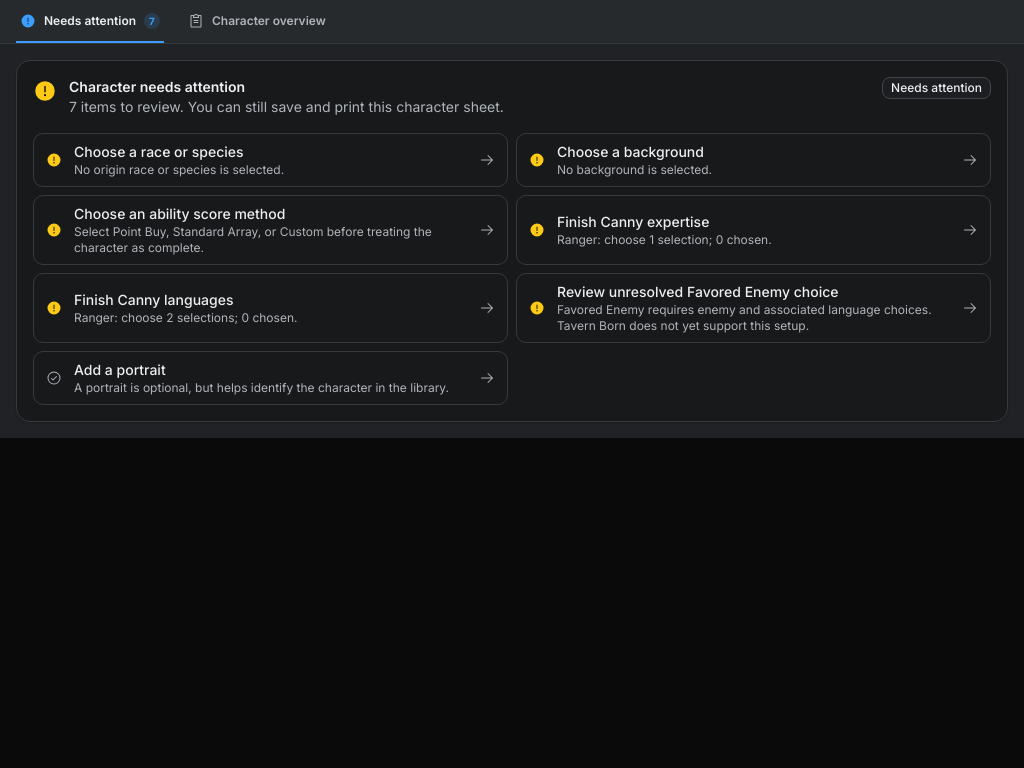
Test: Review routes the real Canny requirement to shared picker and strictly saves the selected proficient skill
Click the button "Finish Canny expertise": click(754, 230) x1=516 y1=195 x2=991 y2=265
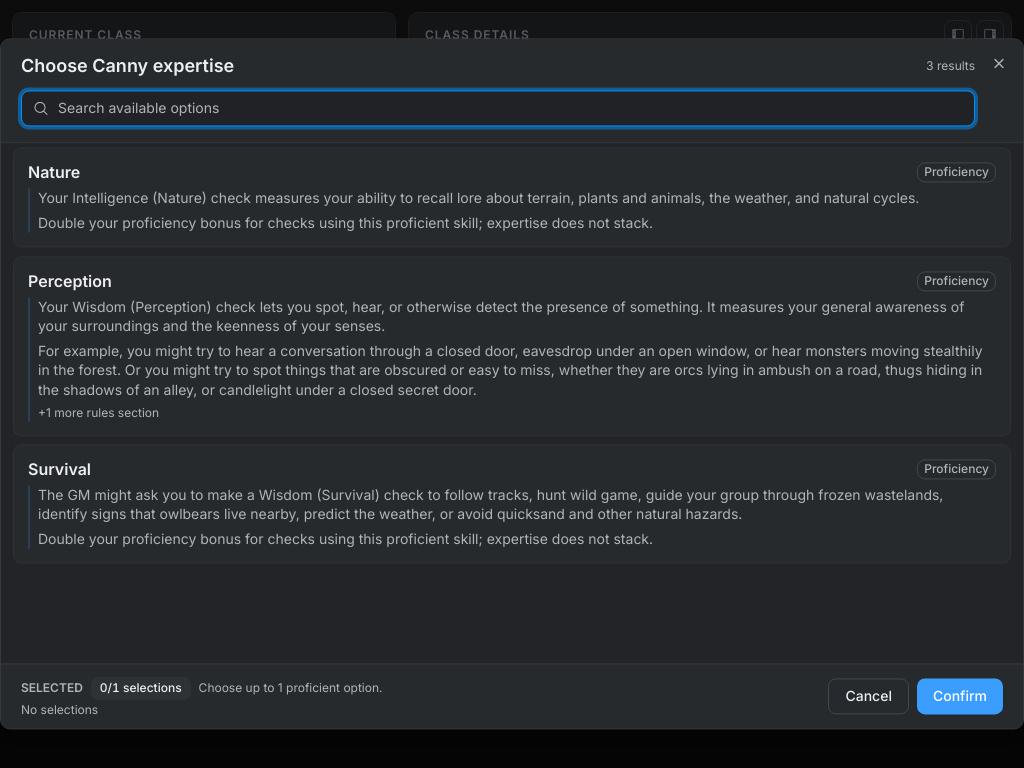
Now the dialog is shown
In the field with placeholder "Search available options": (498, 108) x1=21 y1=90 x2=975 y2=126, type "Survival"
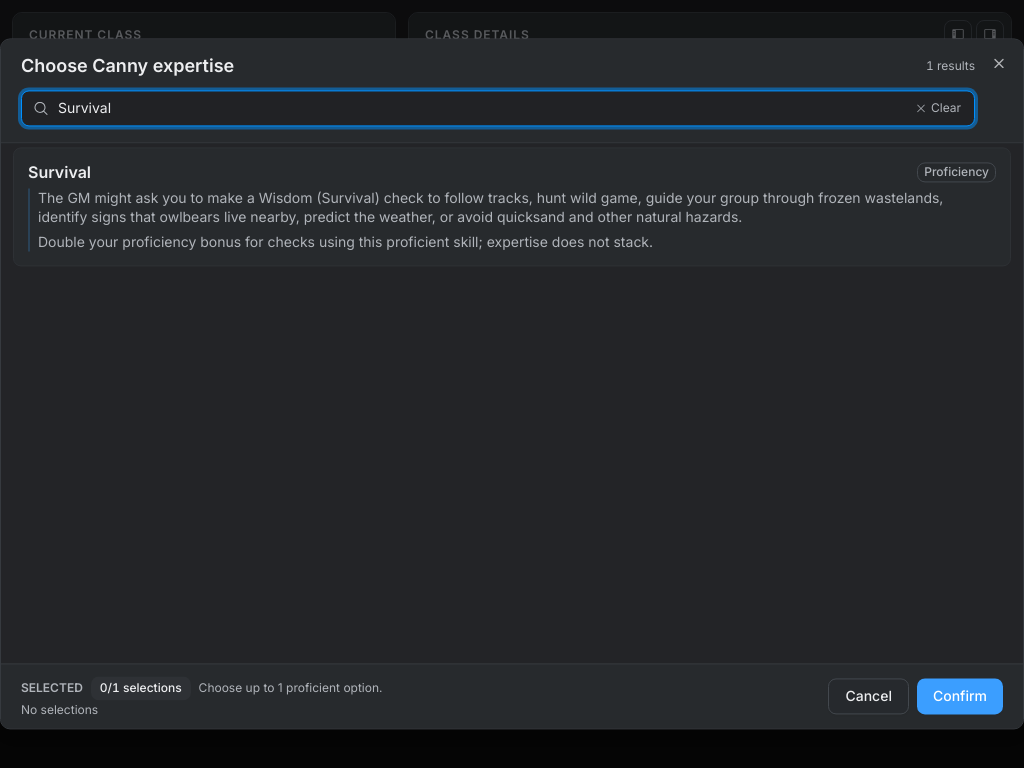
Click the button that starts with "Survival": click(512, 207) x1=13 y1=147 x2=1011 y2=267
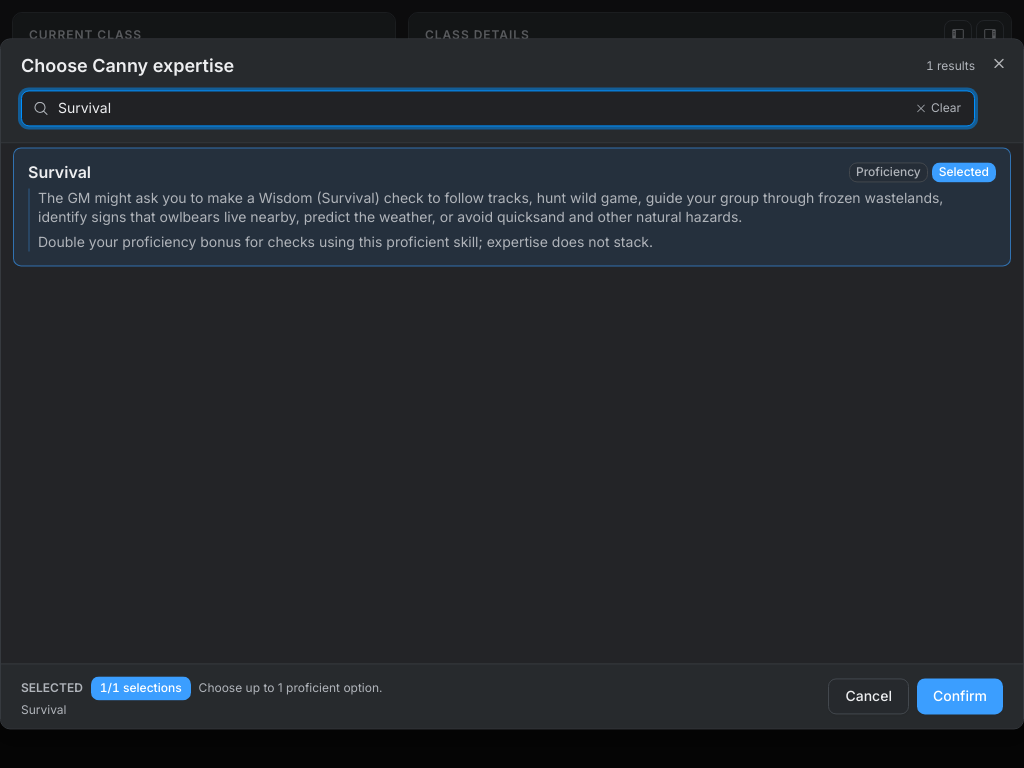
Now the button "Confirm" is enabled
Click the button "Confirm": click(960, 697) x1=917 y1=679 x2=1003 y2=715
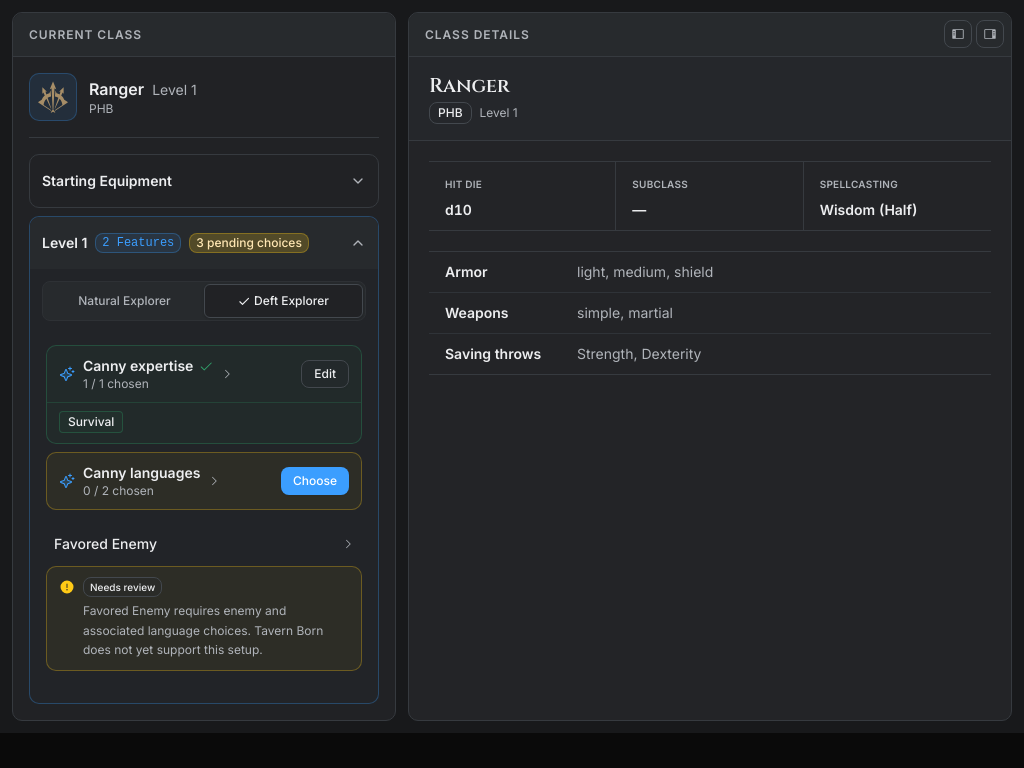
Now the dialog is gone
